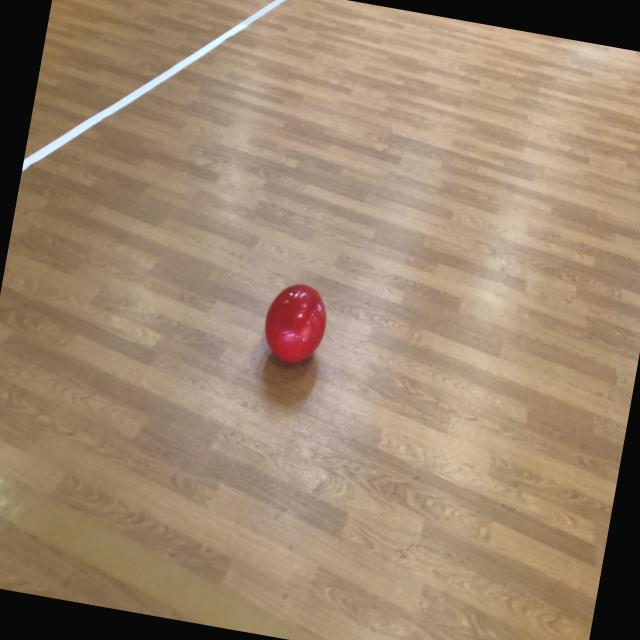red_ball: (260, 278, 332, 367)
